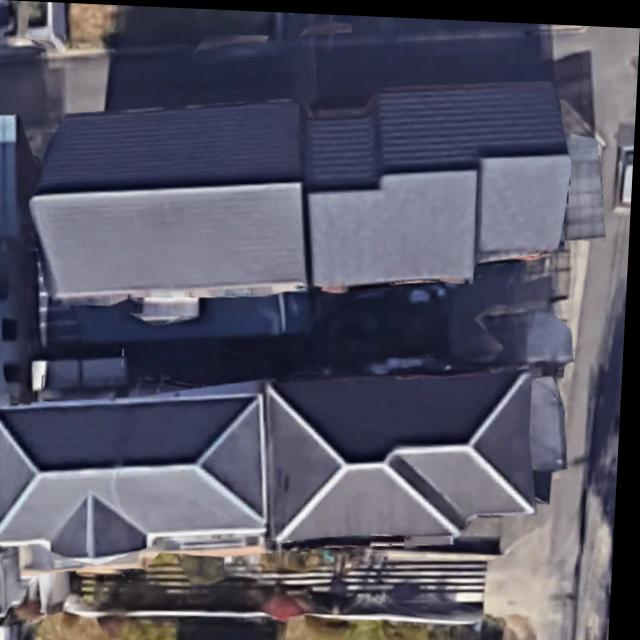Batiment: (306, 77, 607, 288), (33, 98, 310, 303), (270, 364, 571, 540), (0, 390, 273, 565)
